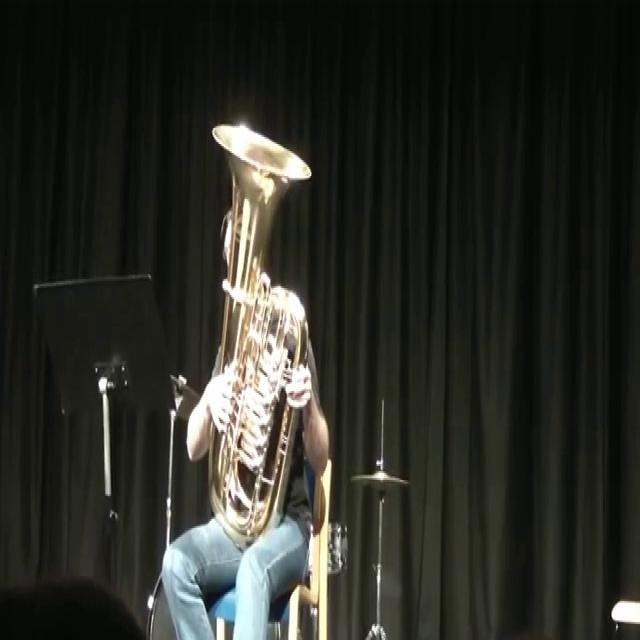Tuba: (201, 111, 322, 577)
